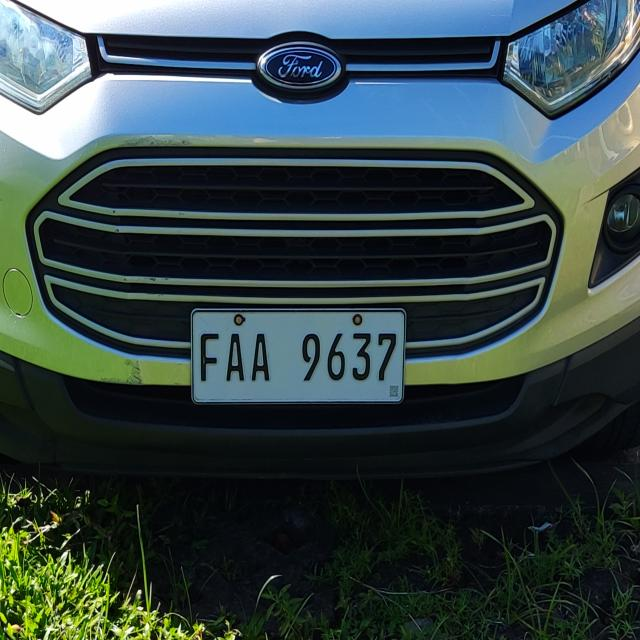plate: (187, 302, 410, 410)
